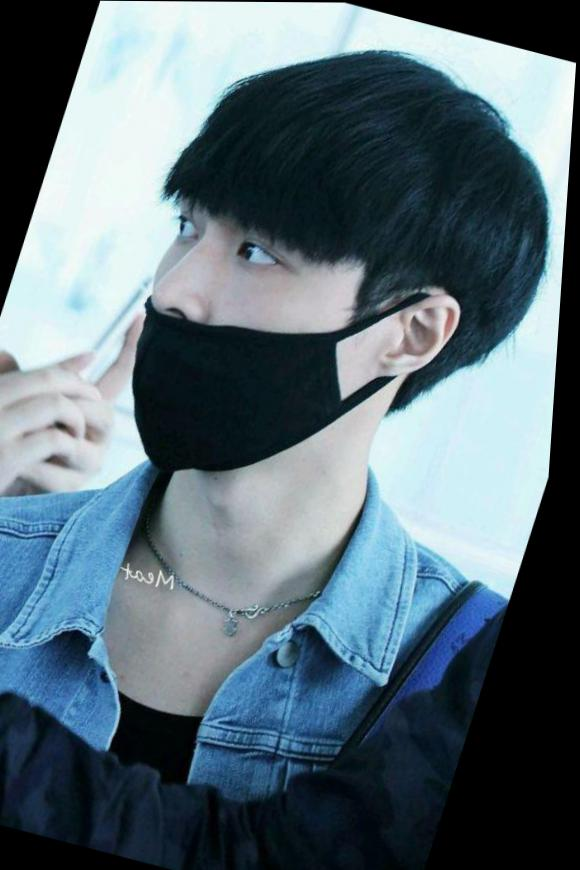WRONG: (98, 155, 484, 524)
